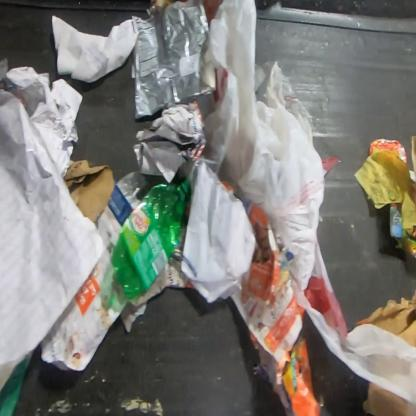cardboard: (356, 290, 415, 349), (63, 159, 115, 222), (390, 202, 415, 264)
metal: (369, 138, 407, 165)
rigid_plastic: (111, 178, 192, 297), (92, 166, 151, 257)
soft_plastic: (174, 0, 415, 406), (132, 0, 216, 121)
